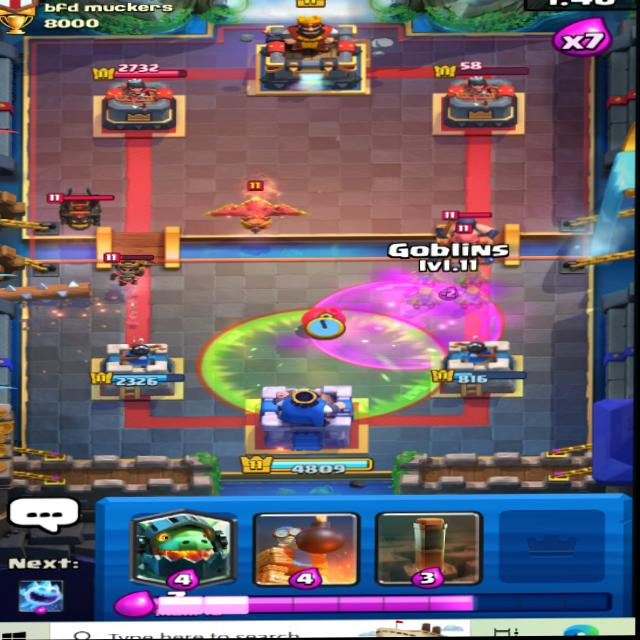executioner: (432, 202, 502, 244)
fisherman: (422, 225, 507, 273)
goblin-curse: (192, 308, 441, 421)
lava-hound: (26, 190, 127, 232)
little-prince: (102, 248, 161, 294)
phoenix: (198, 173, 321, 238)
rage: (311, 274, 503, 370)
